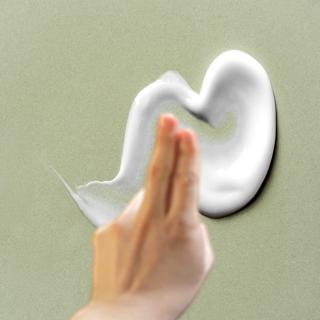DHAVE: (83, 109, 220, 315)
